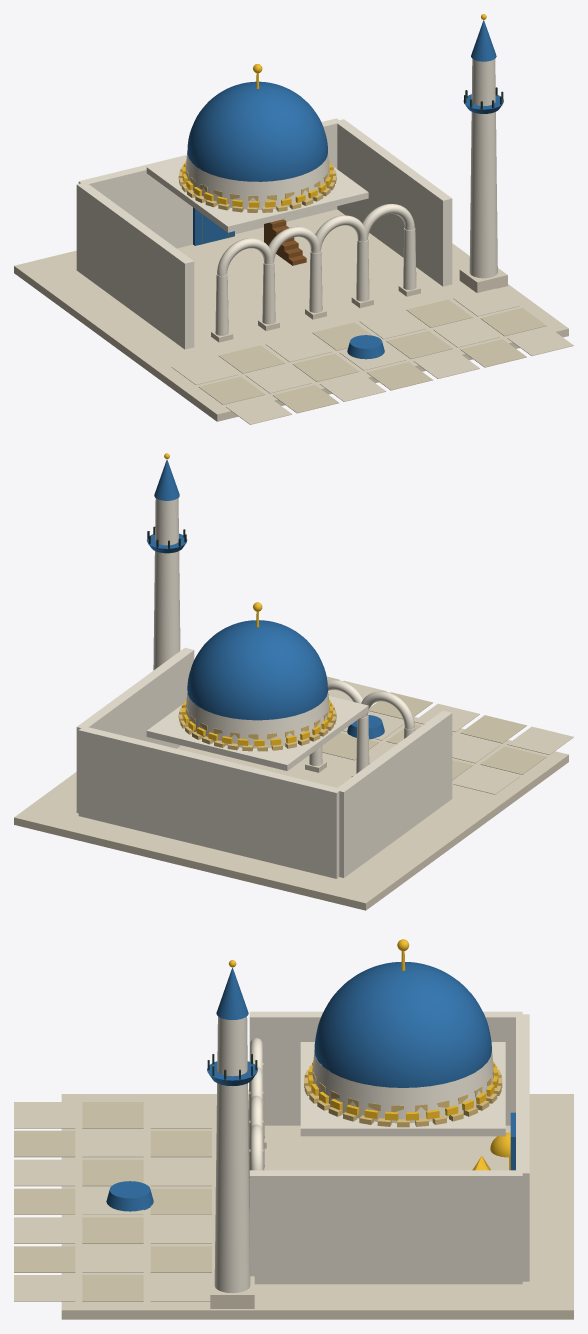
The model's file is mosque.glb.
3 views of the same model, one above another, from view 1: azimuth 30°, elevation 25°; view 2: azimuth 150°, elevation 25°; view 3: azimuth 270°, elevation 25° (orthographic). The views are drawn at different scales.
Visible parts, largest first — view 1: Mosque; view 2: Mosque; view 3: Mosque.
Boxes of the visible parts, x1,y1,x2,y2 form: Mosque: (14,14,573,424); Mosque: (14,453,573,910); Mosque: (14,939,573,1319).
Bounding box in the file's own units: 0.3 × 0.2252 × 0.328.
